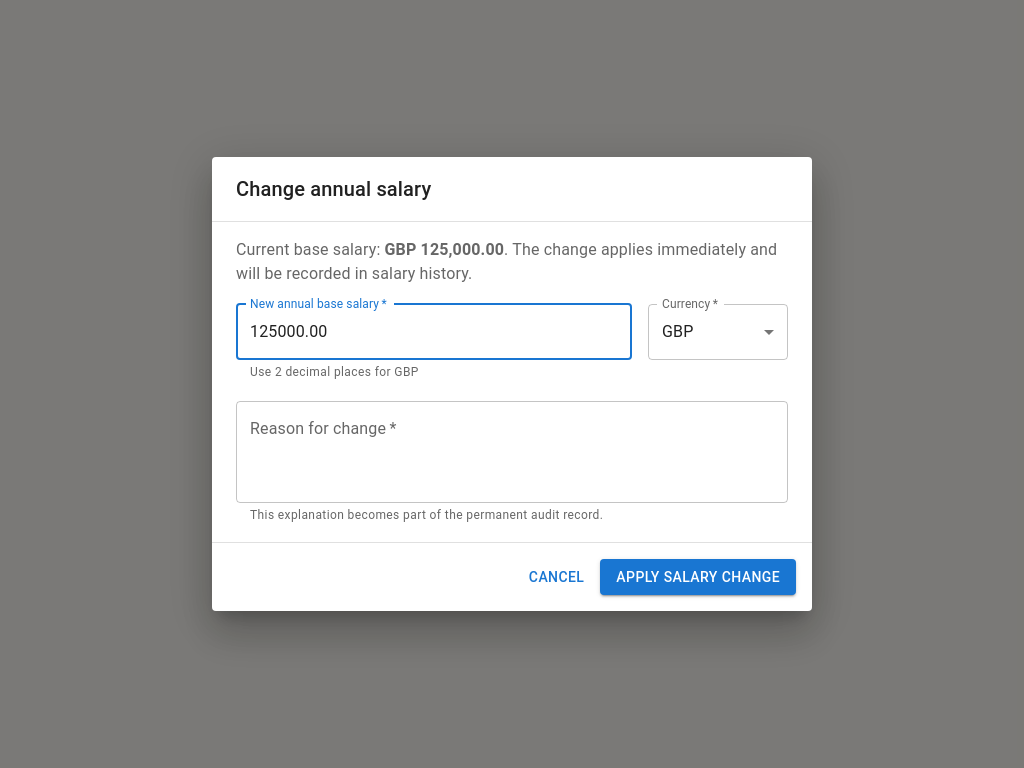
SalaryChangeDialog › disables salary submission when an explicit reload finds the employee archived
The width and height of the screenshot is (1024, 768).
Step 1. Type "Annual review" into the text box labelled "Reason for change *" → (512, 452), box x1=250 y1=417 x2=774 y2=486
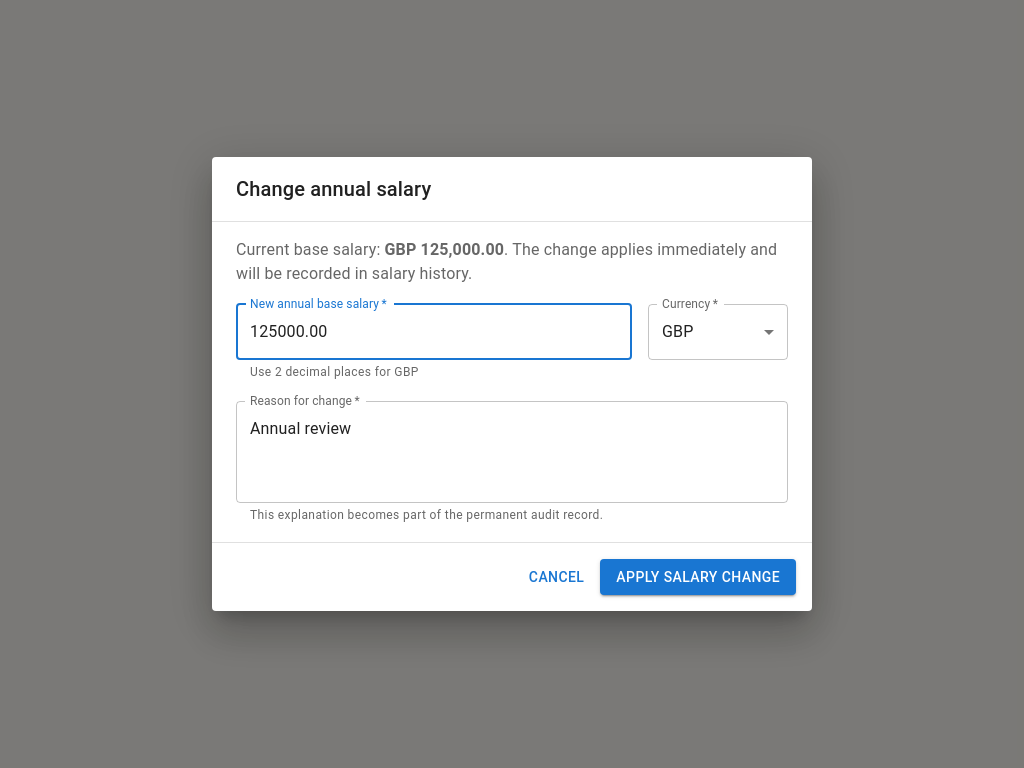
Step 2. Click the button "Apply salary change" → (698, 577), box x1=600 y1=559 x2=796 y2=595
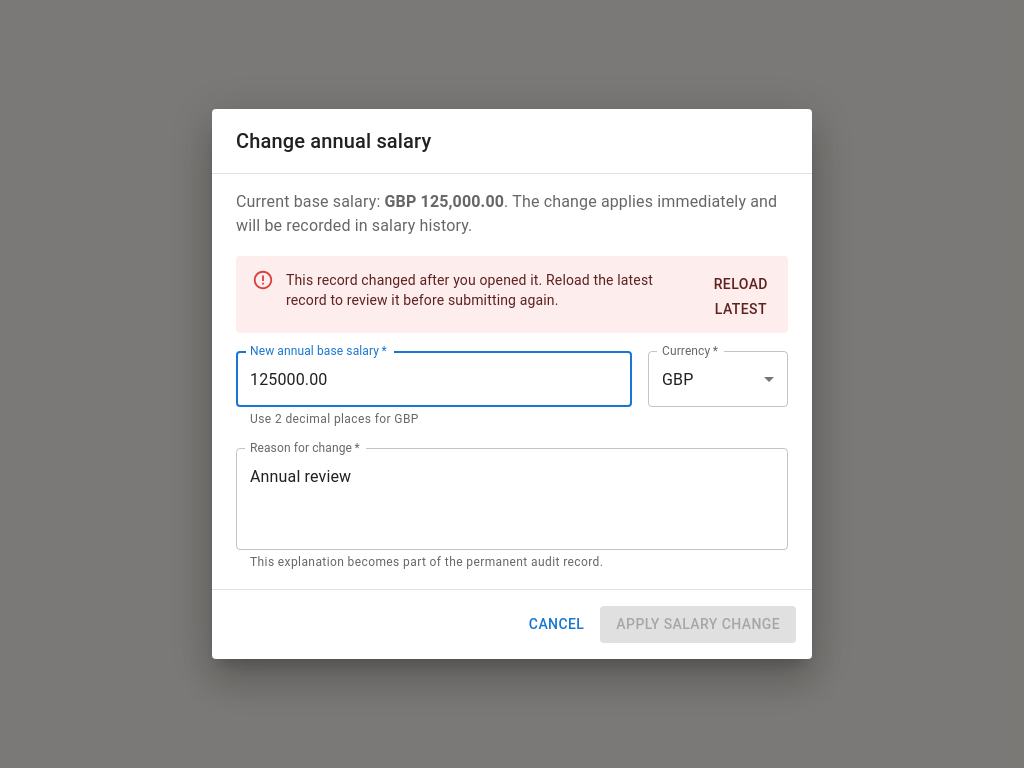
Step 3. Click the button "Reload latest" → (741, 297), box x1=702 y1=266 x2=780 y2=327
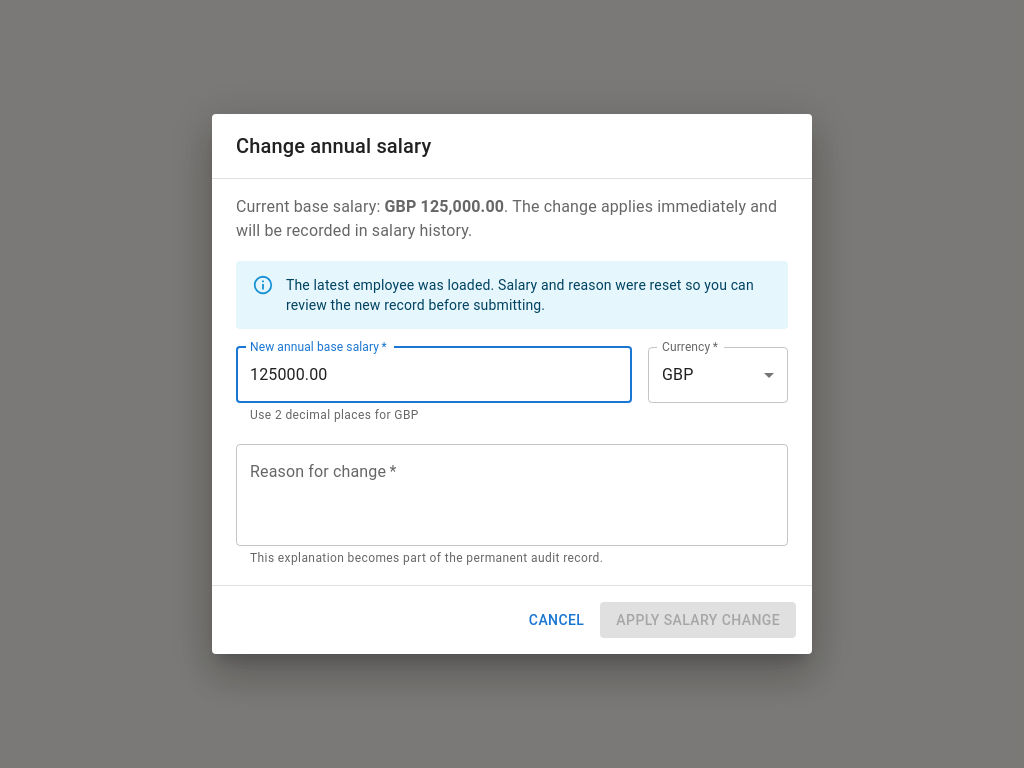
Result: the button "Apply salary change" is disabled at x1=600 y1=602 x2=796 y2=638
Result: the text "Salary and reason were reset" is shown at x1=286 y1=277 x2=754 y2=313
